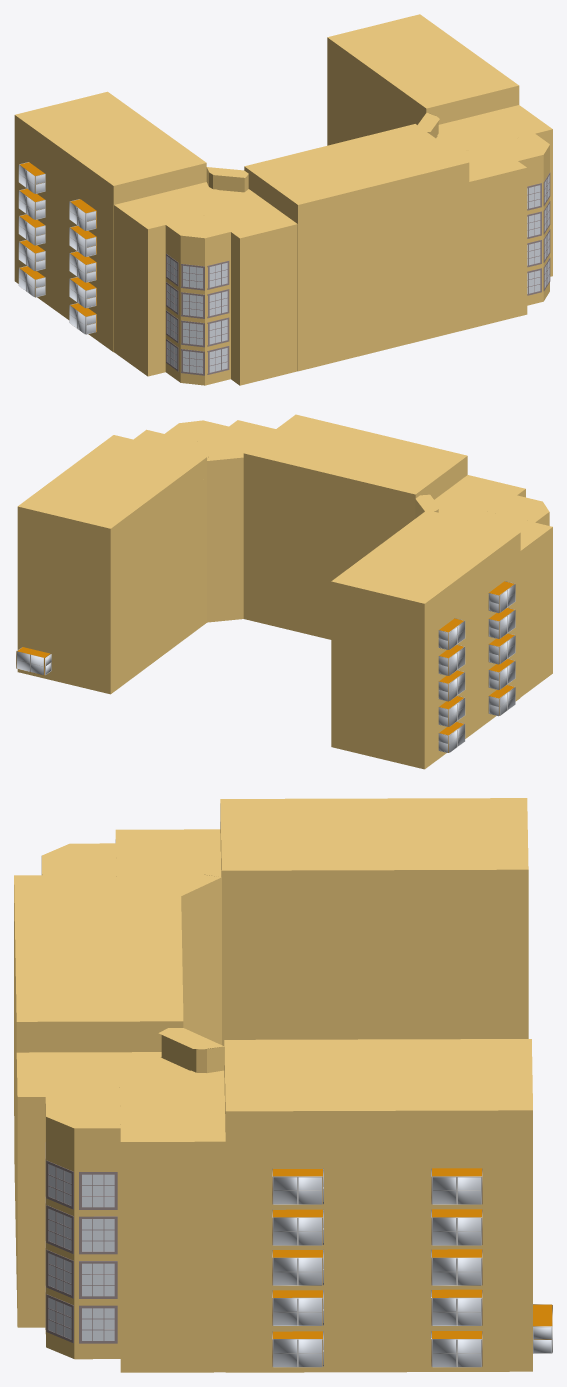
3 renders of one model, top to bottom at view 1: azimuth 30°, elevation 25°; view 2: azimuth 150°, elevation 25°; view 3: azimuth 270°, elevation 25°, orthographic. The views are drawn at different scales.
Parts seen in each view (by area): view 1: Плоскость.001, Плоскость, Cube.023, Cube.028, Cube.021, Cube.025, Cube.024, Cube.022, Cube.026, Cube.030, Cube.027, Cube.029 (+8 smaller); view 2: Плоскость.001, Плоскость, Cube.033, Cube.023, Cube.028, Cube.025, Cube.021, Cube.022, Cube.024, Cube.030, Cube.026, Cube.029 (+1 smaller); view 3: Плоскость.001, Плоскость, Cube.017, Cube.018, Cube.016, Cube.015, Cube.020, Cube.019, Cube.011, Cube.013, Cube.012, Cube.014 (+9 smaller).
Boxes of the visible parts, bbox=[...] form: Плоскость.001: bbox=[14, 14, 552, 364]; Плоскость: bbox=[14, 57, 552, 385]; Cube.023: bbox=[69, 199, 96, 230]; Cube.028: bbox=[18, 162, 45, 193]; Cube.021: bbox=[69, 225, 96, 256]; Cube.025: bbox=[69, 303, 96, 334]; Cube.024: bbox=[69, 277, 96, 308]; Cube.022: bbox=[69, 251, 96, 282]; Cube.026: bbox=[18, 188, 45, 219]; Cube.030: bbox=[18, 266, 45, 297]; Cube.027: bbox=[18, 214, 45, 245]; Cube.029: bbox=[18, 239, 45, 271]; Плоскость.001: bbox=[17, 414, 552, 748]; Плоскость: bbox=[17, 473, 552, 769]; Cube.033: bbox=[16, 647, 51, 675]; Cube.023: bbox=[488, 581, 515, 613]; Cube.028: bbox=[438, 618, 465, 649]; Cube.025: bbox=[488, 684, 515, 716]; Cube.021: bbox=[488, 607, 515, 638]; Cube.022: bbox=[488, 633, 515, 664]; Cube.024: bbox=[488, 659, 515, 689]; Cube.030: bbox=[438, 721, 465, 752]; Cube.026: bbox=[438, 644, 465, 675]; Cube.029: bbox=[438, 695, 465, 726]; Плоскость.001: bbox=[14, 798, 532, 1341]; Плоскость: bbox=[14, 901, 532, 1372]; Cube.017: bbox=[431, 1249, 482, 1285]; Cube.018: bbox=[431, 1168, 482, 1204]; Cube.016: bbox=[431, 1209, 482, 1245]; Cube.015: bbox=[272, 1331, 323, 1367]; Cube.020: bbox=[431, 1331, 482, 1367]; Cube.019: bbox=[431, 1289, 482, 1325]; Cube.011: bbox=[272, 1209, 323, 1245]; Cube.013: bbox=[272, 1168, 323, 1204]; Cube.012: bbox=[272, 1249, 323, 1285]; Cube.014: bbox=[272, 1290, 323, 1325].
Size of the model in its own units: 78.06 by 28.74 by 53.34.
